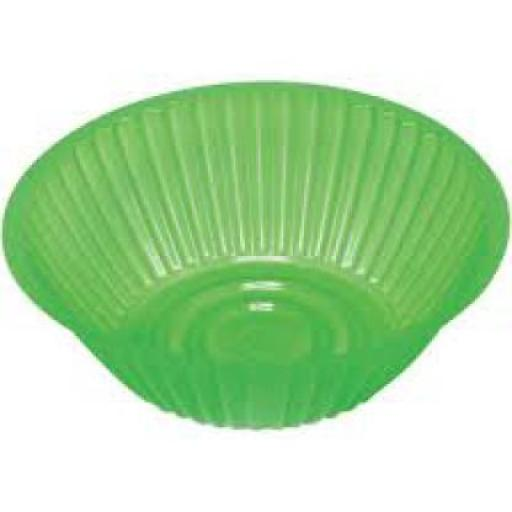glass: (0, 78, 510, 427)
